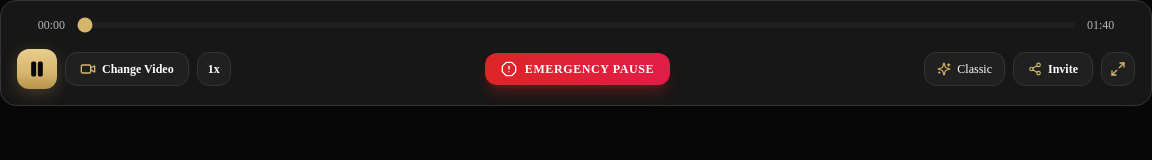
Test: PlaybackControls Component › Invite Sharing & Clipboard Handling › shows "Copied Link!" upon successful copying via Async Clipboard API
The width and height of the screenshot is (1152, 160).
Click the button with test id "invite-btn" at (1053, 69), box x1=1013 y1=52 x2=1093 y2=86
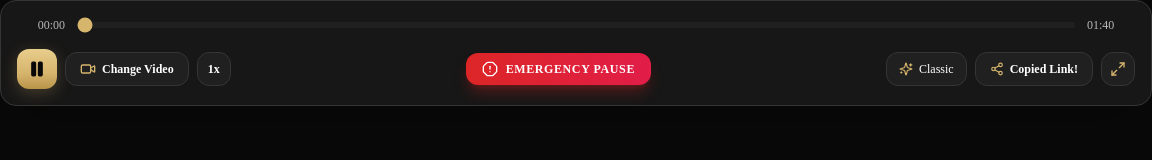
Expected: the button with test id "invite-btn" reads "Copied Link!", x1=975 y1=52 x2=1093 y2=86
